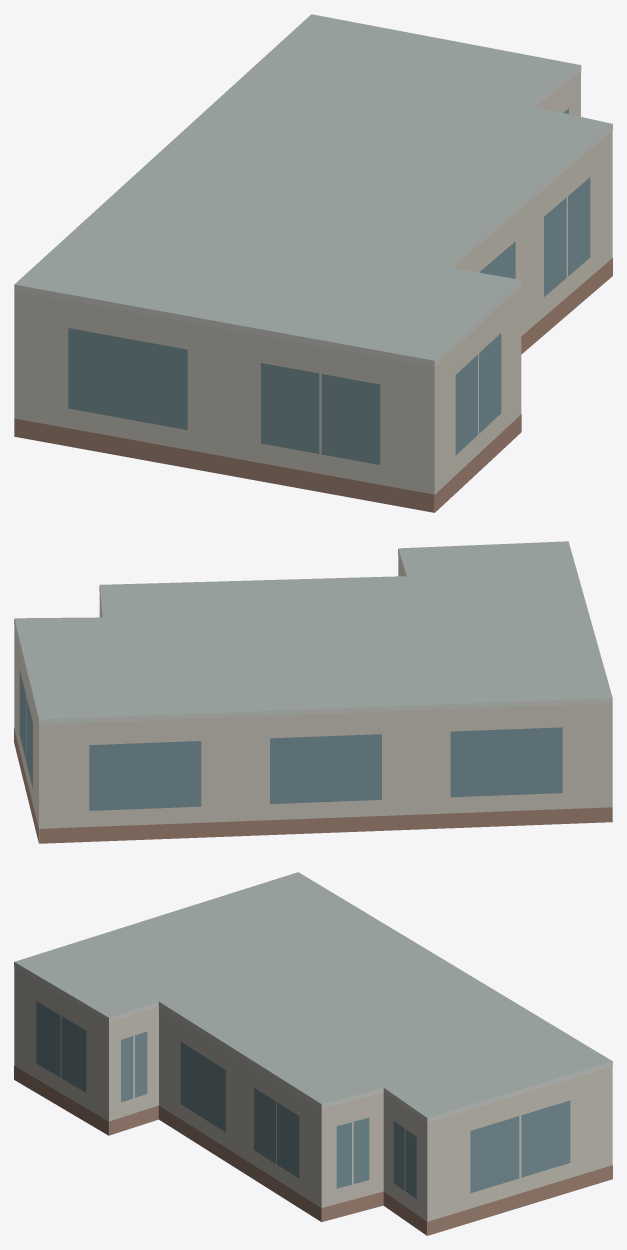
The model's file is survey-upis-32729910.glb.
3 views of the same model, one above another, from view 1: azimuth 30°, elevation 25°; view 2: azimuth 150°, elevation 25°; view 3: azimuth 270°, elevation 25° (orthographic). The views are drawn at different scales.
Visible parts, largest first — view 1: survey-upis-32729910.tmp; view 2: survey-upis-32729910.tmp; view 3: survey-upis-32729910.tmp.
Boxes of the visible parts, x1=… form: survey-upis-32729910.tmp: x1=14, y1=14, x2=612, y2=512; survey-upis-32729910.tmp: x1=14, y1=541, x2=612, y2=843; survey-upis-32729910.tmp: x1=14, y1=872, x2=612, y2=1235.
Size of the model in its own units: 13.66 by 3.05 by 14.05.
